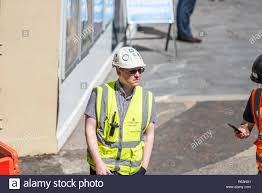Helmet: (112, 45, 146, 73)
Jacket: (93, 81, 157, 176)
